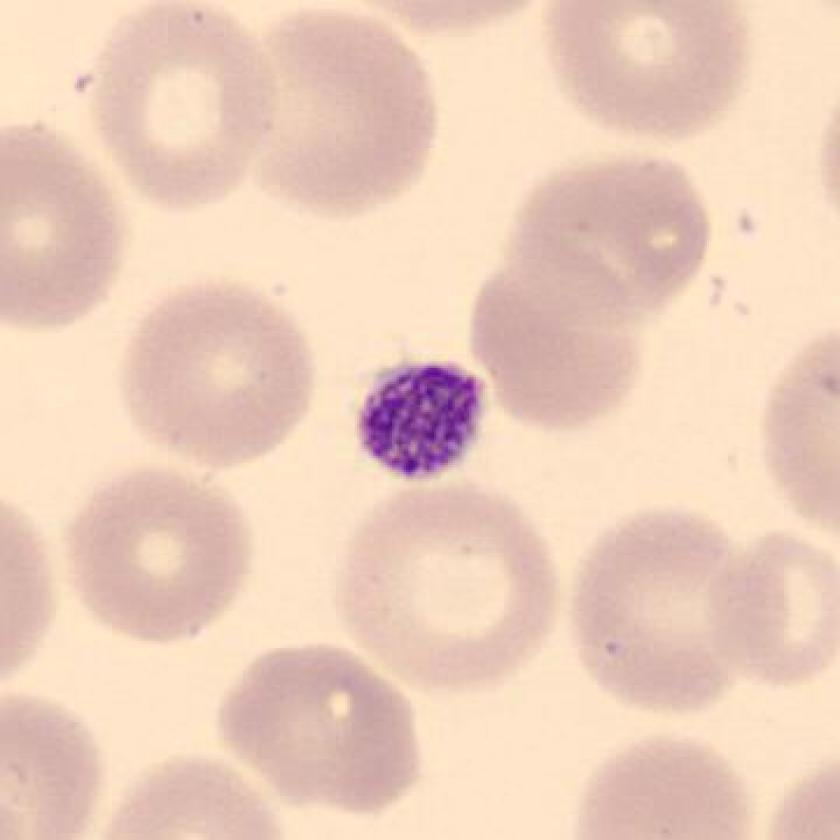platelets: (346, 353, 491, 485)
